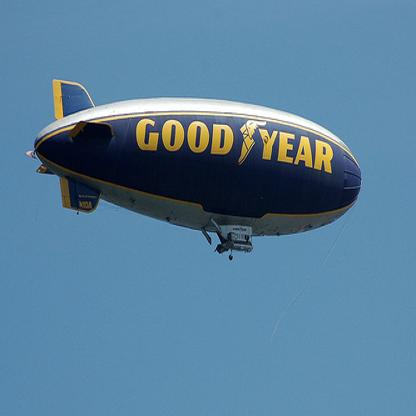Airship: (30, 77, 365, 263)
